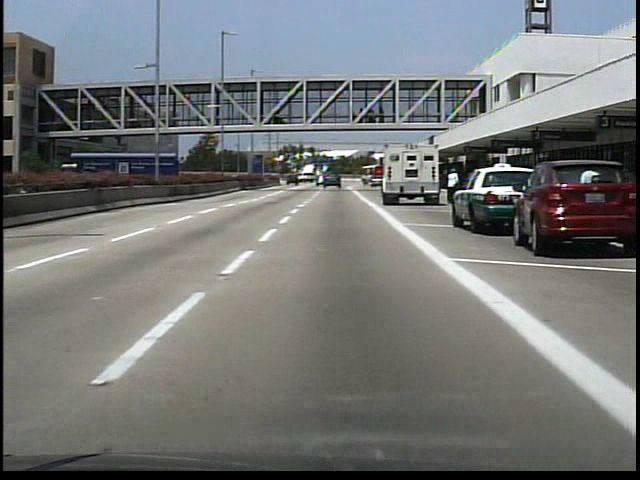person: (446, 168, 461, 209)
